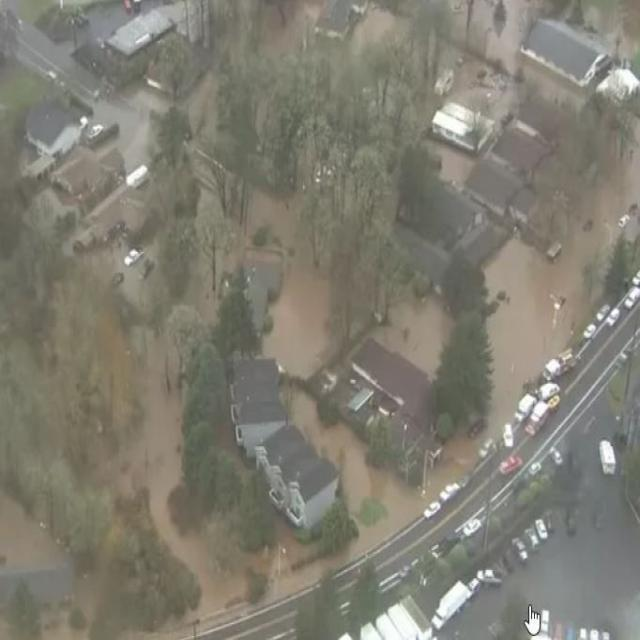flood: (252, 387, 481, 602), (485, 152, 640, 436), (130, 340, 247, 632), (249, 193, 329, 378), (450, 0, 544, 74), (371, 293, 453, 372), (0, 494, 69, 574), (263, 0, 324, 57), (108, 346, 131, 430), (352, 7, 397, 48)
house: (524, 18, 610, 86), (353, 342, 426, 408), (466, 156, 524, 220), (290, 458, 338, 530), (434, 96, 495, 152), (255, 433, 301, 503), (26, 102, 80, 156), (232, 410, 292, 455), (52, 162, 94, 194)
